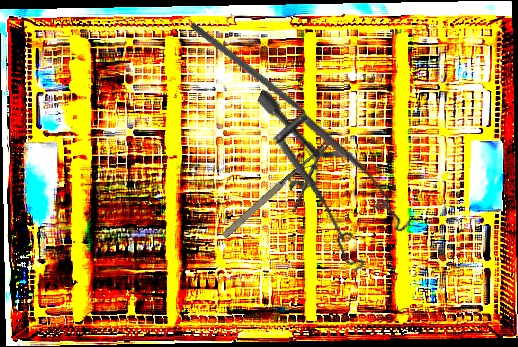Hook Surgical: (188, 21, 324, 130)
Needle Holder: (218, 138, 351, 258)
Speculum: (209, 89, 436, 284)
